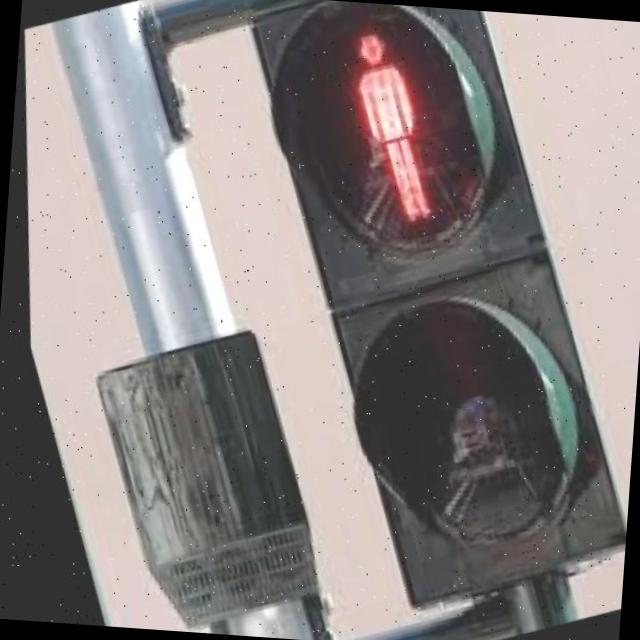red_light: (279, 0, 484, 277)
